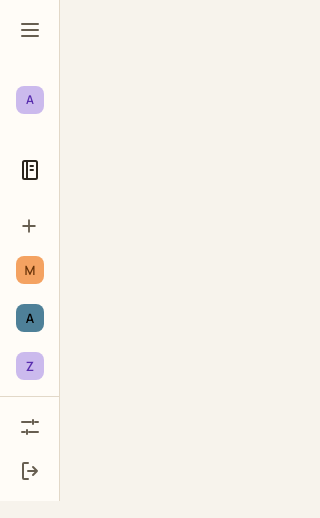
Test: SidePanel › ends with log out, which disables itself while it runs
Step 1. Click the button named "Log out" → (30, 471), box top-left (8, 449), bottom-right (51, 493)
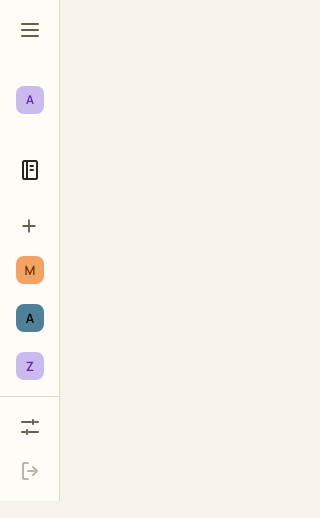
Now the button named "Logging out…" is disabled, box top-left (8, 449), bottom-right (51, 493)
